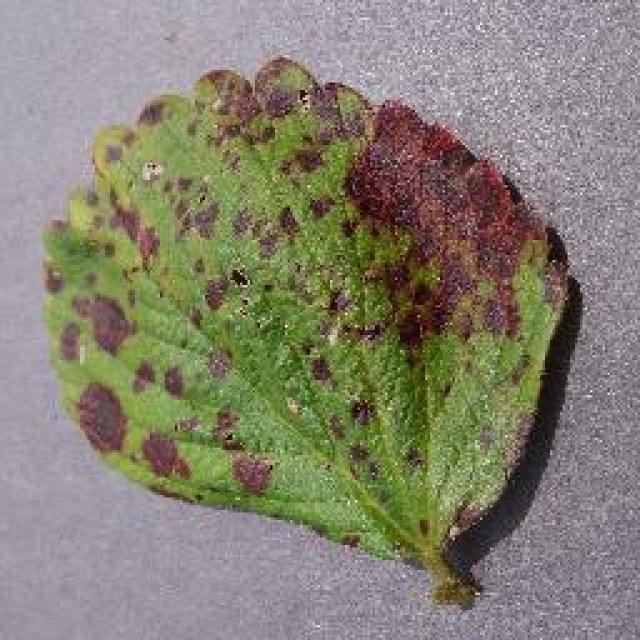Strawberry___Leaf_scorch: (28, 32, 582, 622)
